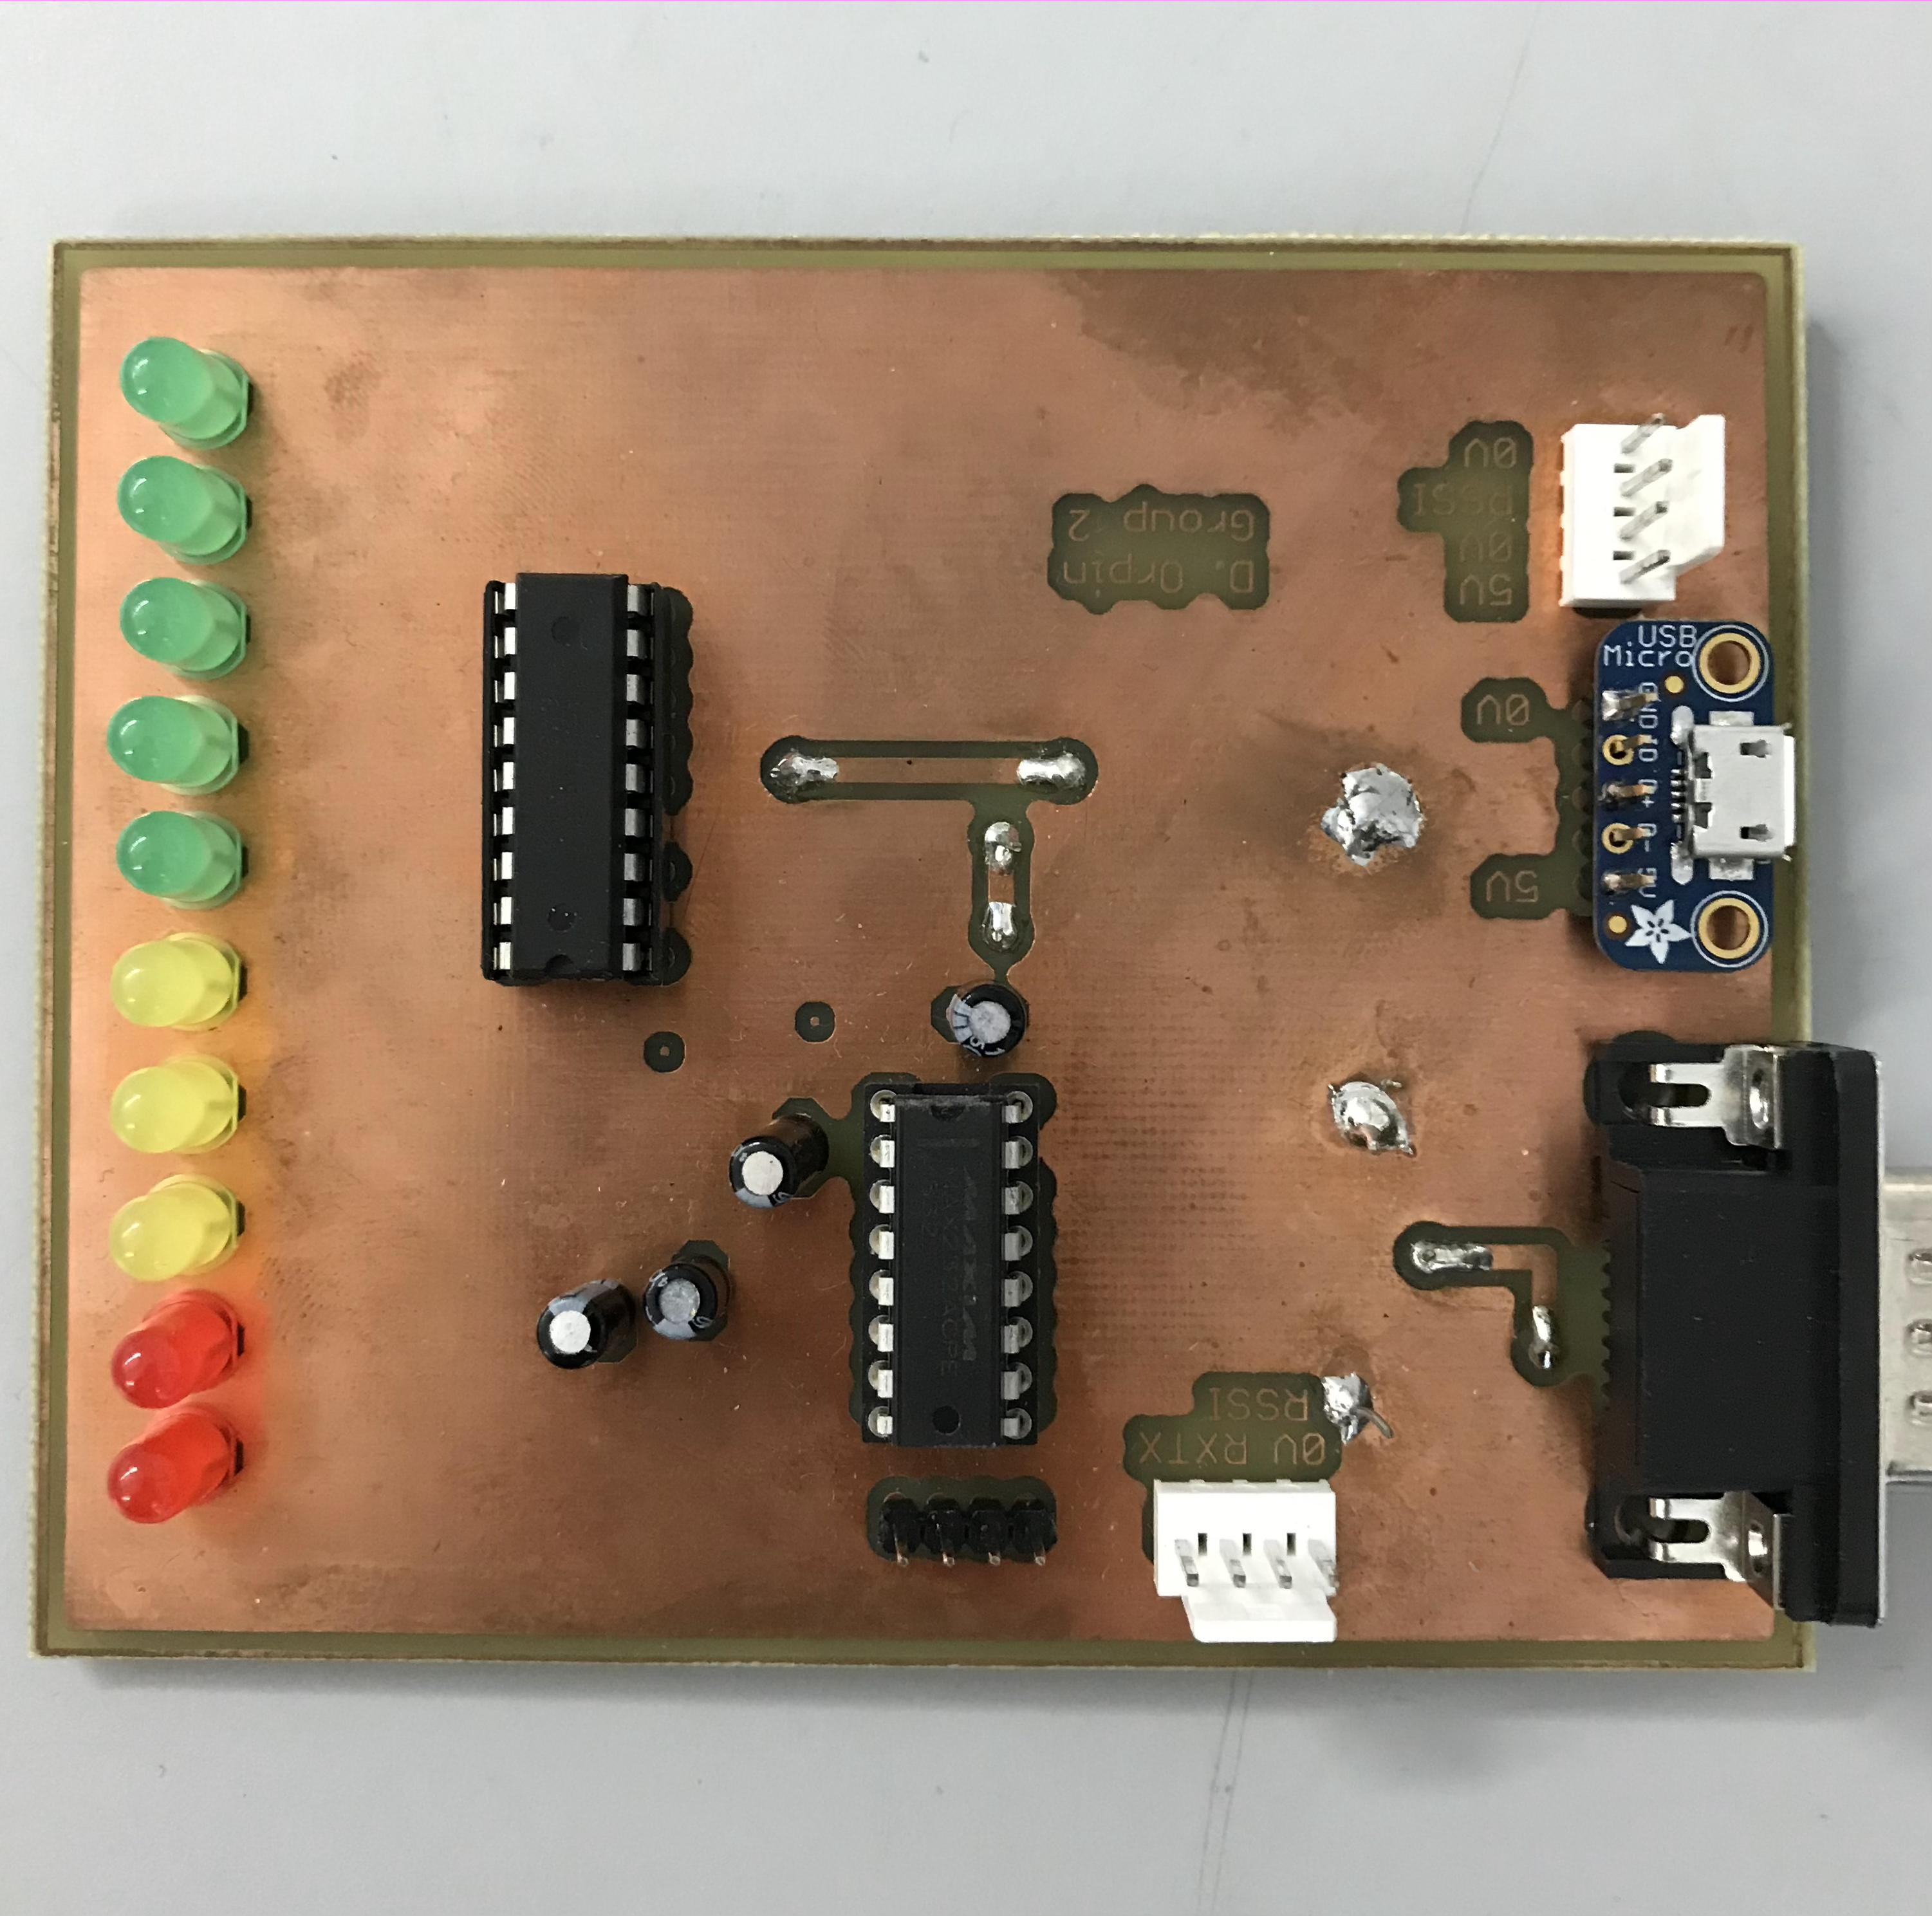Capacitor: (719, 1107, 834, 1218), (533, 1274, 637, 1377), (637, 1251, 735, 1349), (944, 972, 1034, 1067)
LED: (97, 1407, 246, 1537), (102, 1286, 246, 1416), (118, 330, 258, 453), (102, 686, 253, 800), (114, 449, 261, 563), (104, 1046, 246, 1160), (105, 1172, 244, 1288), (116, 568, 254, 681), (114, 802, 253, 914), (105, 930, 249, 1035)
